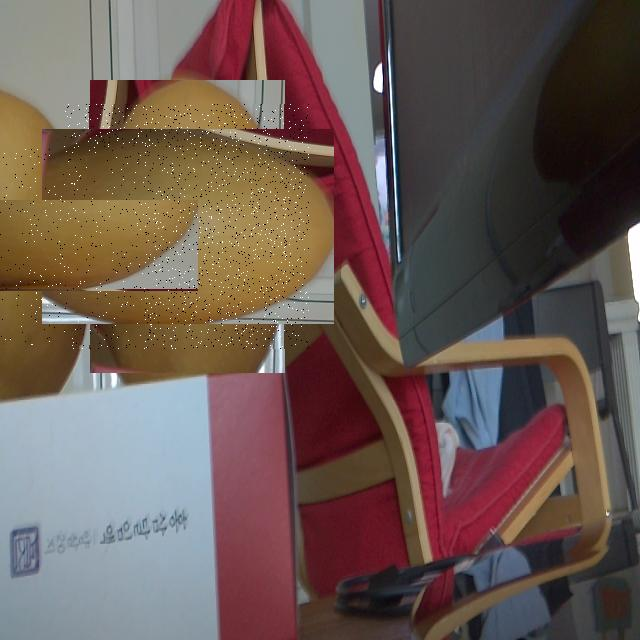pear: (66, 104, 310, 349), (0, 146, 145, 345)
